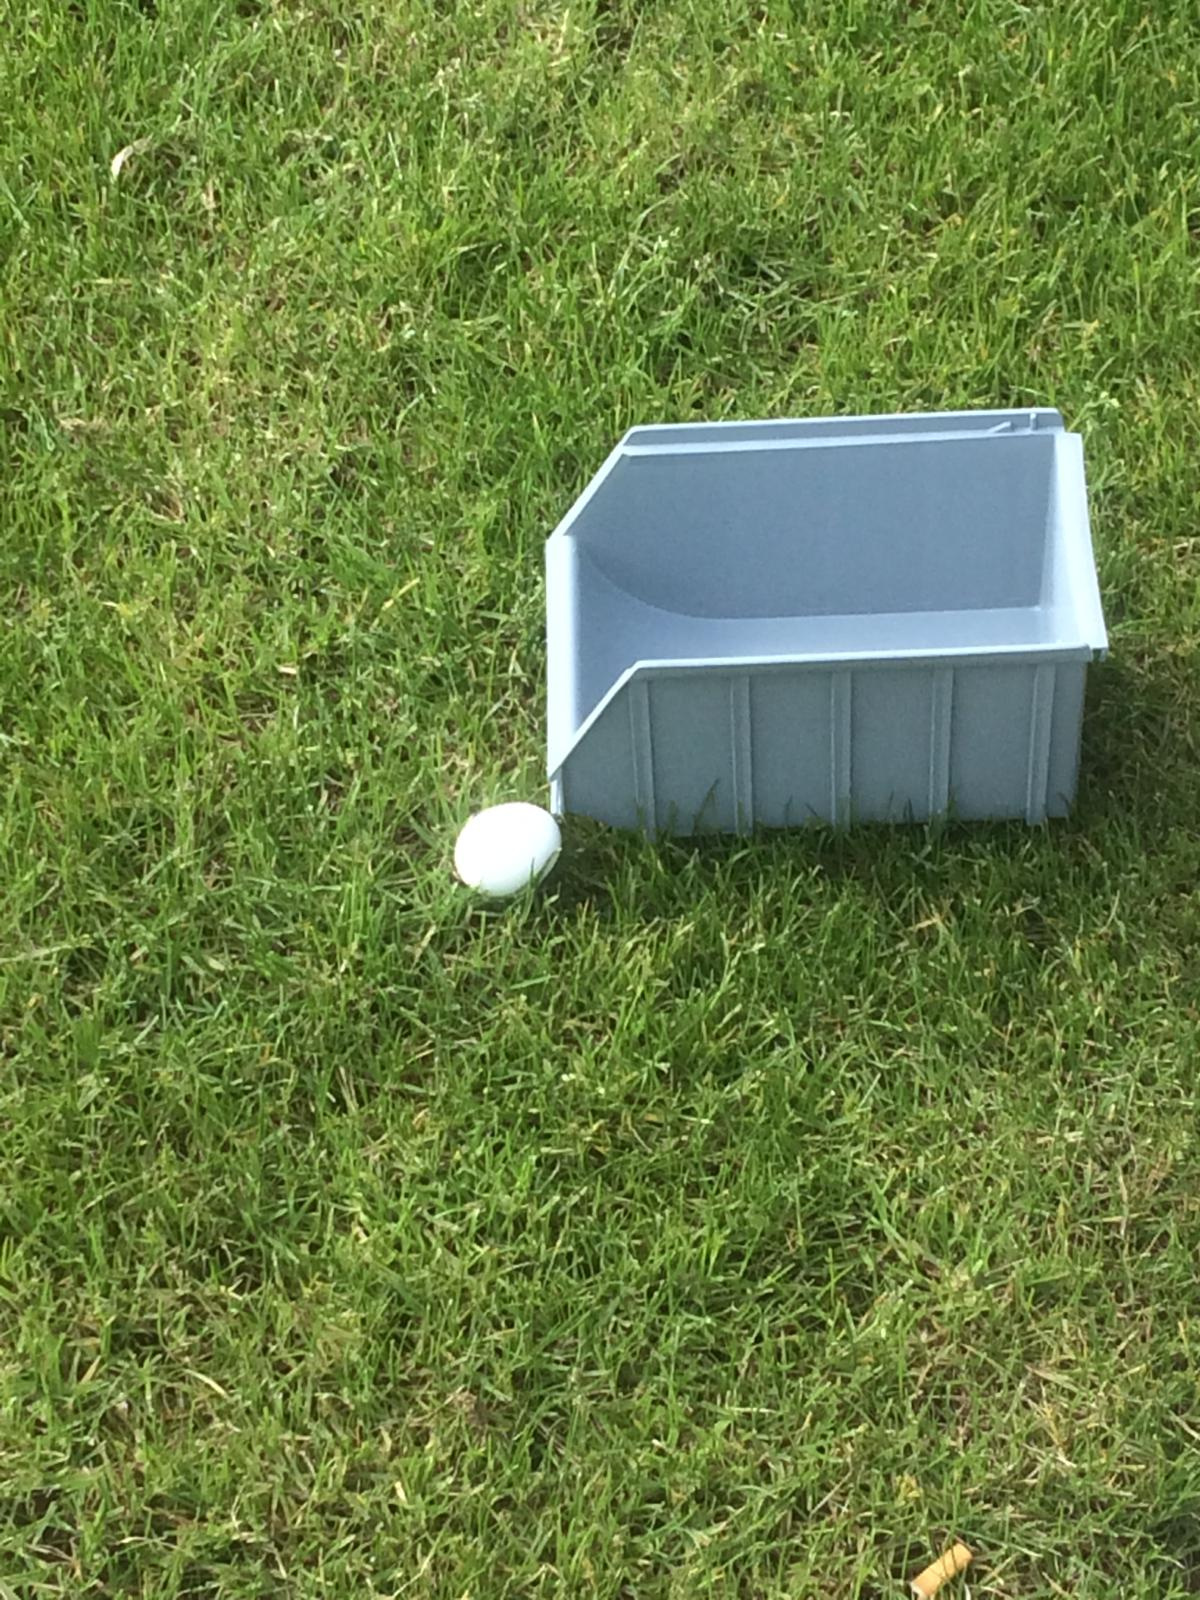egg: (437, 790, 570, 905)
tray: (539, 399, 1108, 843)
